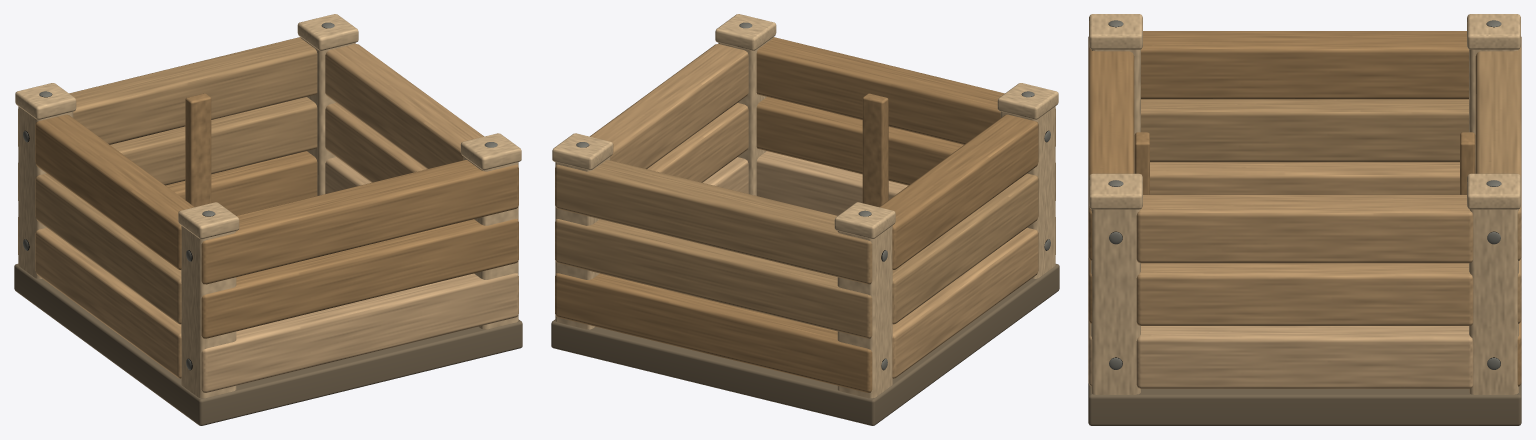
File: wall-master.glb
3 renders of one model, left to right at view 1: azimuth 30°, elevation 25°; view 2: azimuth 150°, elevation 25°; view 3: azimuth 270°, elevation 25°, orthographic. The views are drawn at different scales.
Visible parts, largest first — view 1: Pallet wall / one cell; view 2: Pallet wall / one cell; view 3: Pallet wall / one cell.
Boxes of the visible parts, bbox=[...] form: Pallet wall / one cell: bbox=[14, 14, 522, 425]; Pallet wall / one cell: bbox=[551, 14, 1059, 425]; Pallet wall / one cell: bbox=[1088, 14, 1521, 425].
Bounding box in the file's own units: 1 × 0.595 × 1.
13 materials, 13 textured.
